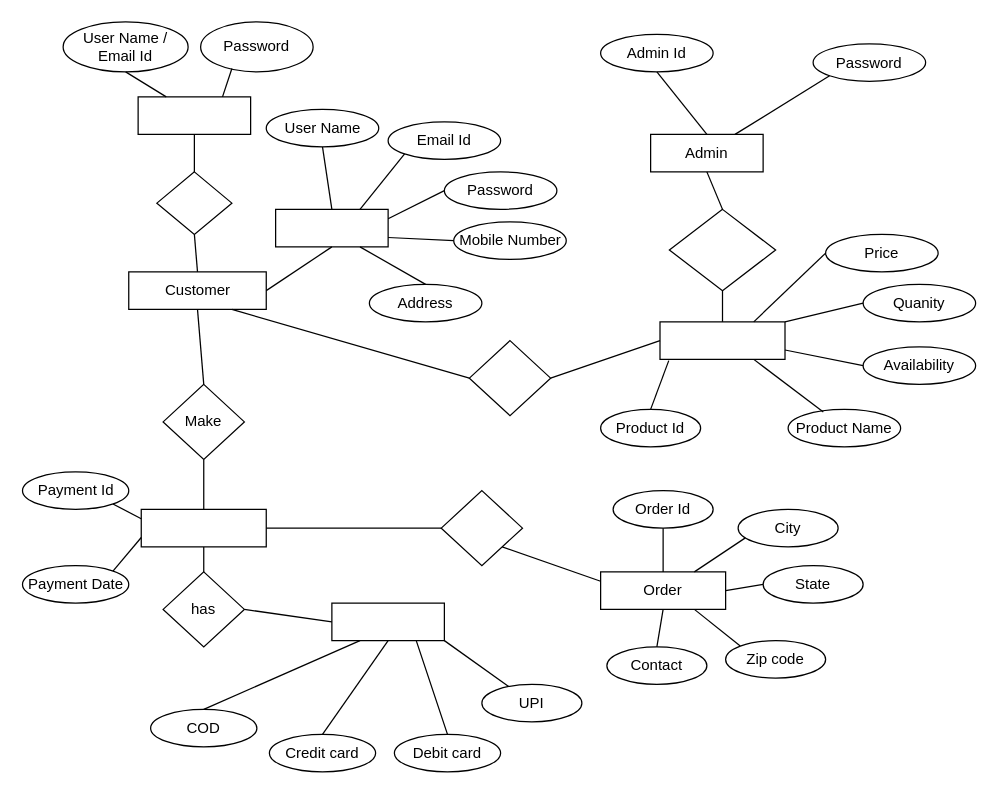
Some shapes in this 998 by 794 pixel diagram are drawn without their labels. Each missing label, with the centre of its shape:
"Authentication" belongs at [194,115].
"Log In" belongs at [194,202].
"Managed By" belongs at [722,249].
"Option" belongs at [387,621].
"Payment" belongs at [203,527].
"Place" belongs at [481,527].
"Product" belongs at [722,340].
"Register / New user" belongs at [331,227].
"Views" belongs at [509,377].
